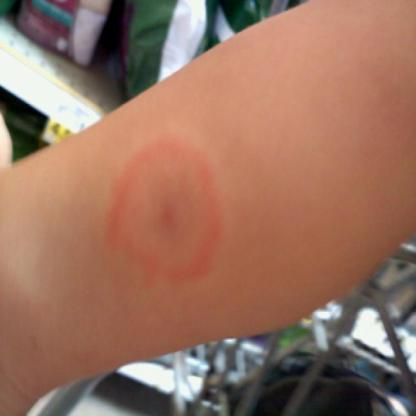Ringworm: (91, 123, 239, 294)
